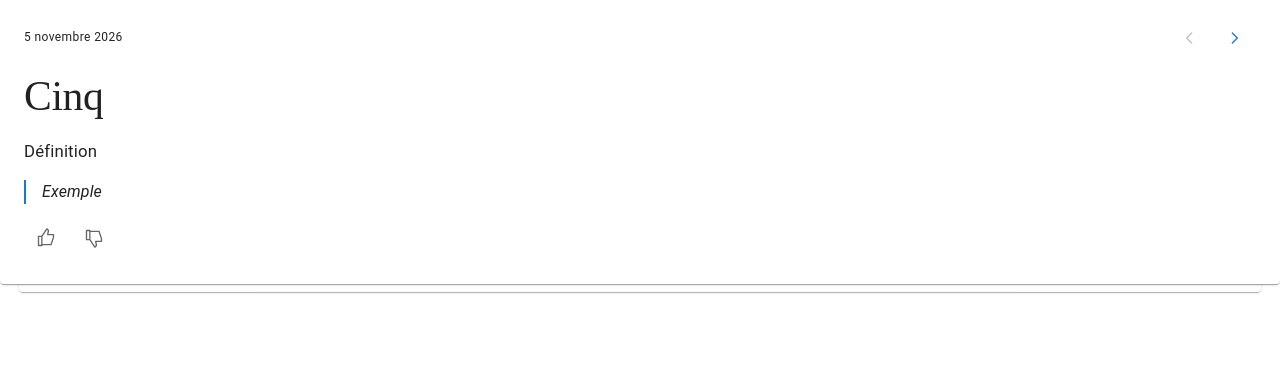
Test case: conserve les cartes disponibles après une panne et signale l’échec une fois le lot vide
The width and height of the screenshot is (1280, 370).
Expected: the element with class "deck-underneath" shows "Enregistrée", [42, 87, 222, 132]
Expected: the text "Impossible de charger" is not shown
What coordinates should you click on to do the following:
click the button named "Autre découverte"
I would click on:
 (1234, 38)
Its box is [1212, 16, 1256, 60].
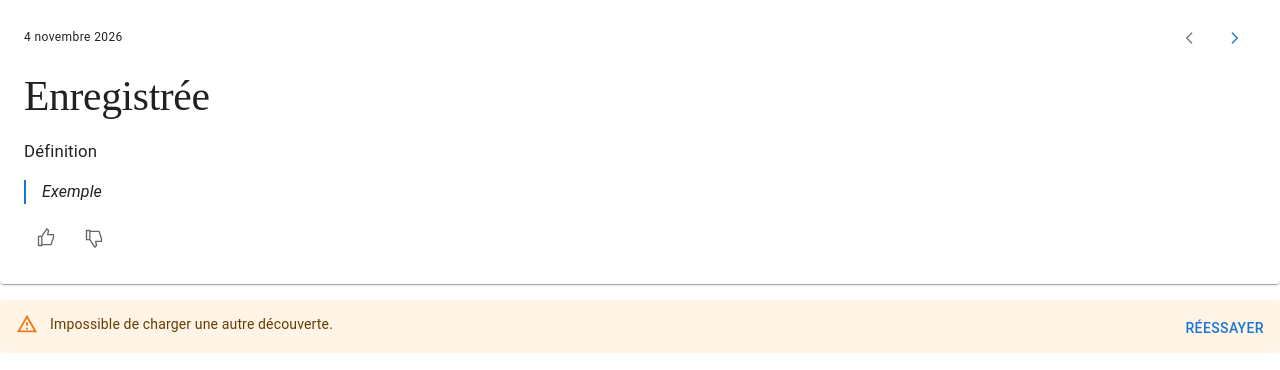
Expected: the heading "Enregistrée" is shown, [24, 73, 210, 119]
Expected: the text "Impossible de charger une autre découverte." is shown, [50, 316, 333, 332]
